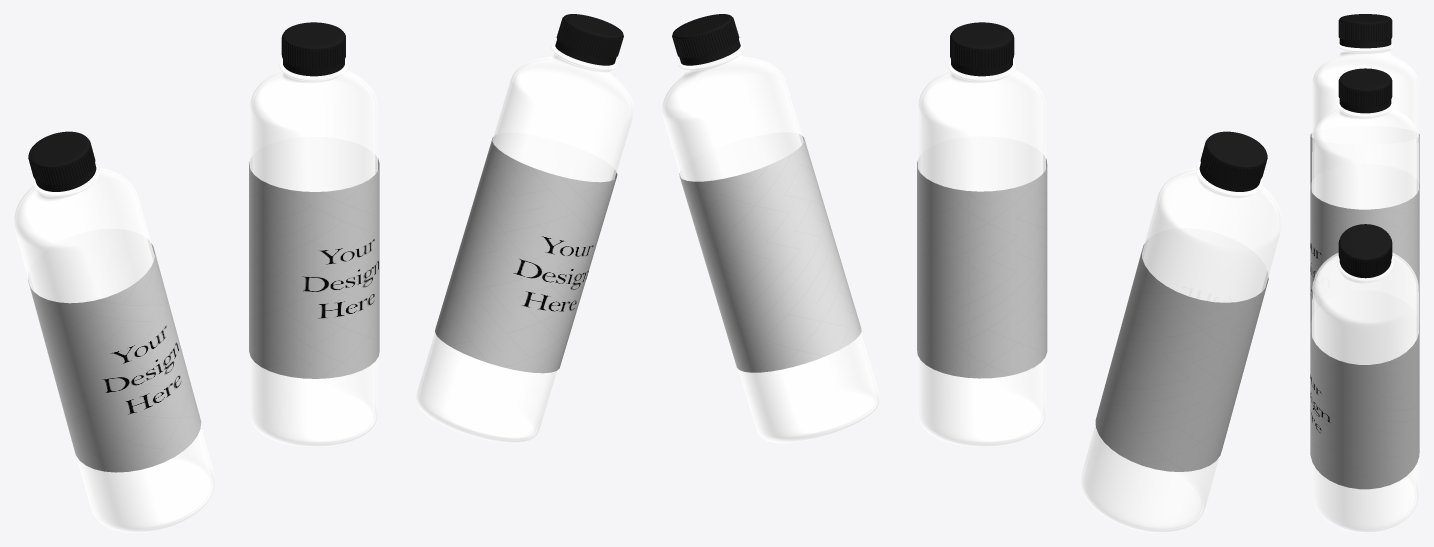
Rendered from Glass_Bottle-A4.glb.
3 renders of one model, left to right at view 1: azimuth 30°, elevation 25°; view 2: azimuth 150°, elevation 25°; view 3: azimuth 270°, elevation 25°, orthographic. The views are drawn at different scales.
Parts seen in each view (by area): view 1: Label, Label.001, Bottle, Label.002, Bottle.001, Bottle.002, Cap.002, Cap.001, Cap; view 2: Label, Label.001, Bottle, Label.002, Bottle.001, Bottle.002, Cap.002, Cap.001, Cap; view 3: Bottle, Label, Bottle.001, Label.001, Bottle.002, Cap, Cap.001, Cap.002, Label.002.
Boxes of the visible parts, x1,y1,x2,y2 form: Label: [435, 135, 617, 373]; Label.001: [249, 155, 379, 378]; Bottle: [416, 43, 633, 443]; Label.002: [28, 239, 201, 472]; Bottle.001: [250, 59, 377, 446]; Bottle.002: [14, 161, 214, 532]; Cap.002: [28, 131, 96, 191]; Cap.001: [281, 22, 345, 76]; Cap: [555, 14, 623, 65]; Label: [679, 134, 861, 372]; Label.001: [917, 155, 1047, 378]; Bottle: [662, 43, 879, 443]; Label.002: [1095, 239, 1268, 471]; Bottle.001: [918, 59, 1045, 446]; Bottle.002: [1081, 161, 1281, 532]; Cap.002: [1199, 131, 1267, 191]; Cap.001: [950, 22, 1014, 76]; Cap: [672, 14, 740, 65]; Bottle: [1312, 252, 1418, 532]; Label: [1310, 315, 1419, 489]; Bottle.001: [1312, 99, 1418, 209]; Label.001: [1310, 179, 1419, 325]; Bottle.002: [1312, 43, 1418, 137]; Cap: [1338, 224, 1392, 278]; Cap.001: [1338, 68, 1392, 113]; Cap.002: [1338, 14, 1392, 48]; Label.002: [1310, 133, 1419, 185].
Bounding box in the file's own units: 7.73 × 5.43 × 1.46.
Materials: 3 (1 with a texture image).
